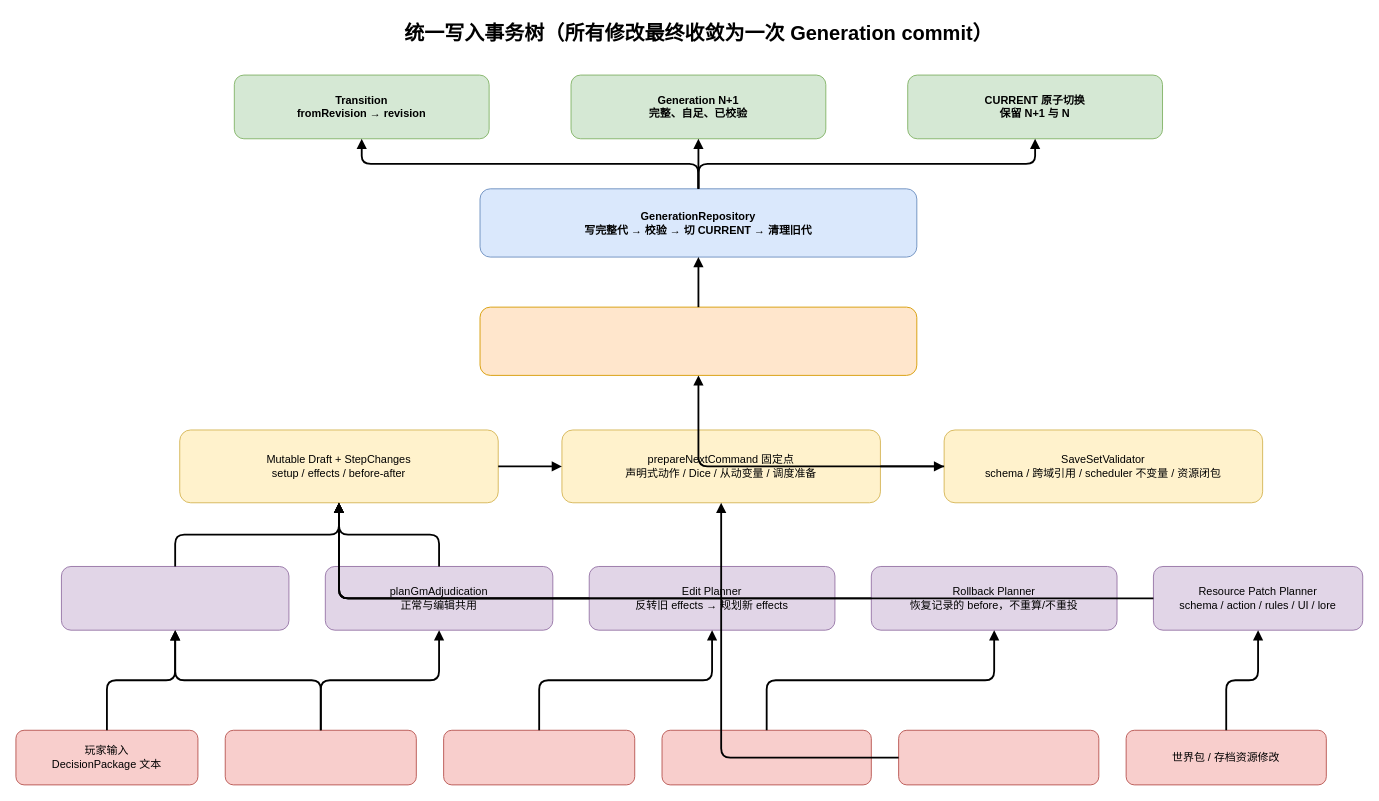
Image size: 1379x801. Some labels were removed from this diagram. Here are the shapes that lost their labels. From the top down, the centre of each, then its label:
the point at 698,340: CommitExecutor baseRevision 检查 / 应用 CommitPlan / 生成 revision
the point at 175,598: planActorDecision 玩家与 NPC 共用
the point at 320,757: 角色 / GM 返回 最终结果 JSON 文本
the point at 539,757: 用户编辑结果 / 直编存档
the point at 766,757: rollback / rollback_and_continue
the point at 998,757: 声明式规则 / 固定动作 / 投骰
